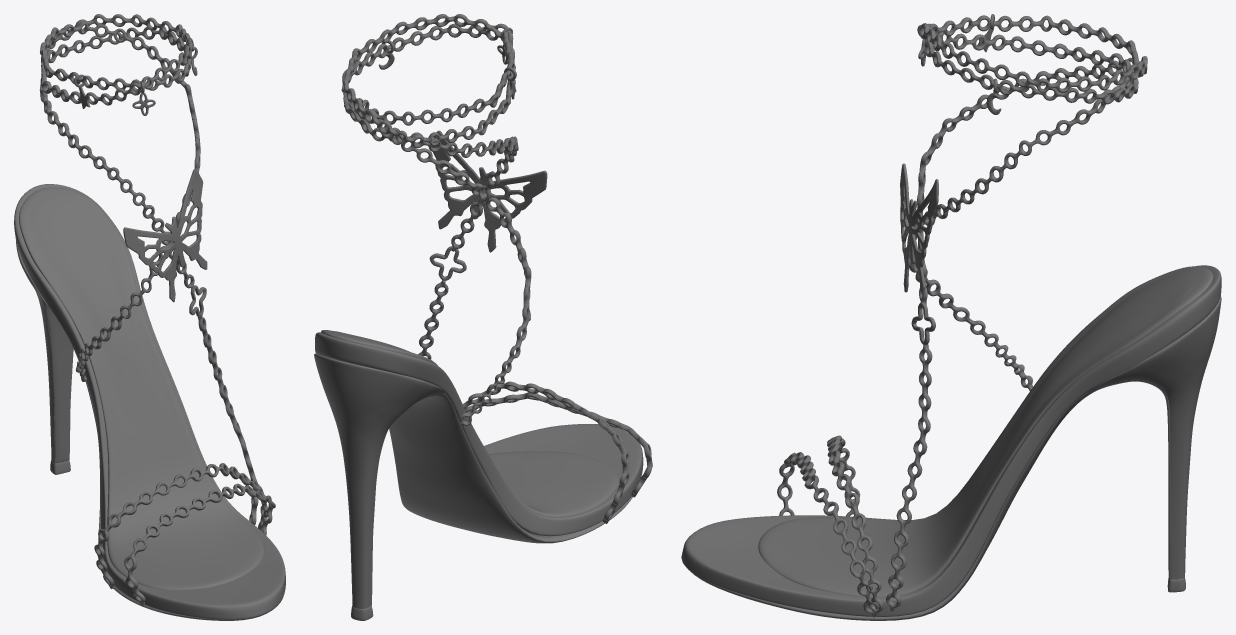
Rendered from heels-1.glb.
The picture shows the model from 3 angles, left to right: view 1: azimuth 30°, elevation 25°; view 2: azimuth 150°, elevation 25°; view 3: azimuth 270°, elevation 25°; orthographic projection. The views are drawn at different scales.
Parts seen in each view (by area): view 1: Chain_Heels; view 2: Chain_Heels; view 3: Chain_Heels.
Boxes of the visible parts, left/top/right/bottom form: Chain_Heels: left=14, top=14, right=285, bottom=620; Chain_Heels: left=314, top=14, right=652, bottom=620; Chain_Heels: left=681, top=14, right=1221, bottom=620.
Size of the model in its own units: 0.083 by 0.2102 by 0.184.
2 materials, 2 textured.
